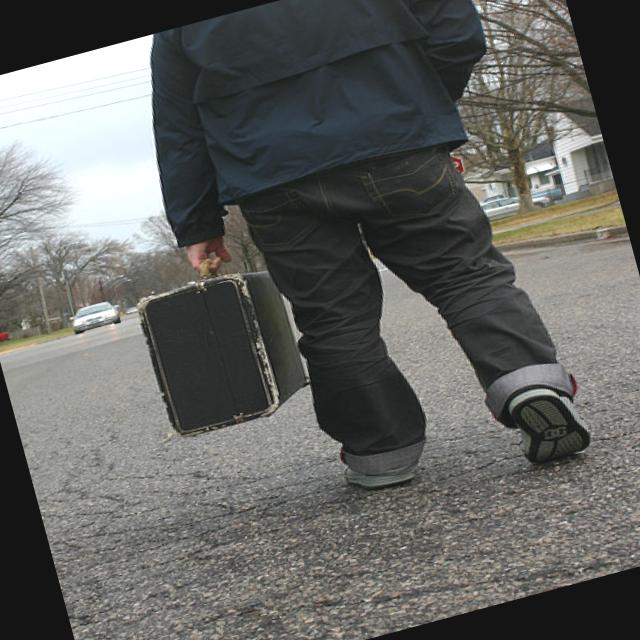Vehicle: (480, 186, 554, 223), (67, 298, 123, 334), (124, 304, 140, 316)
